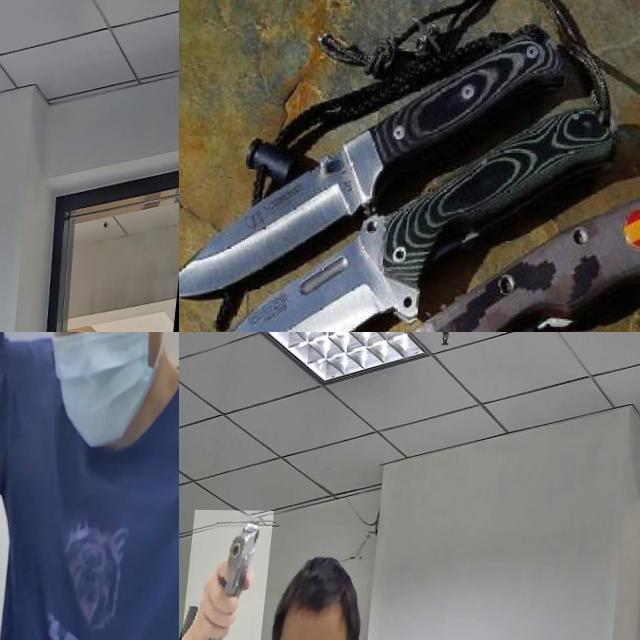-: (179, 160, 367, 300), (179, 257, 401, 332)
gun-knife-thesis - v11 Yolov5 augmented: (0, 332, 86, 611), (189, 510, 280, 640), (0, 229, 39, 332)
